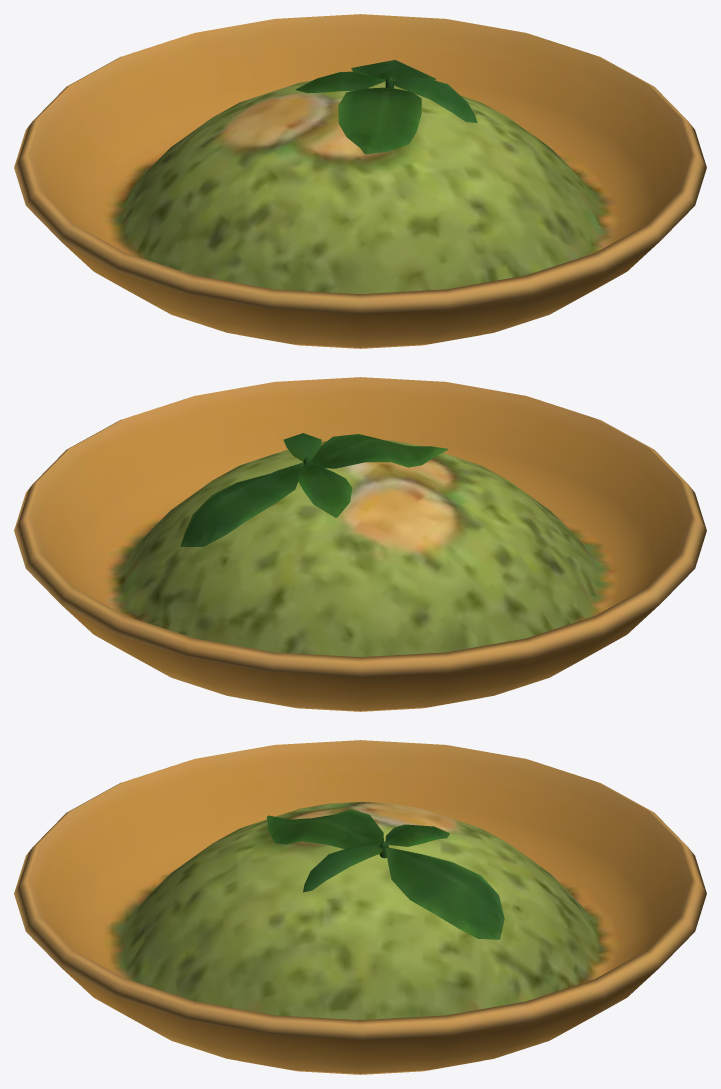
3 renders of one model, top to bottom at view 1: azimuth 30°, elevation 25°; view 2: azimuth 150°, elevation 25°; view 3: azimuth 270°, elevation 25°, orthographic.
Size of the model in its own units: 7.11 by 1.75 by 7.11.
1 material, 1 textured.
